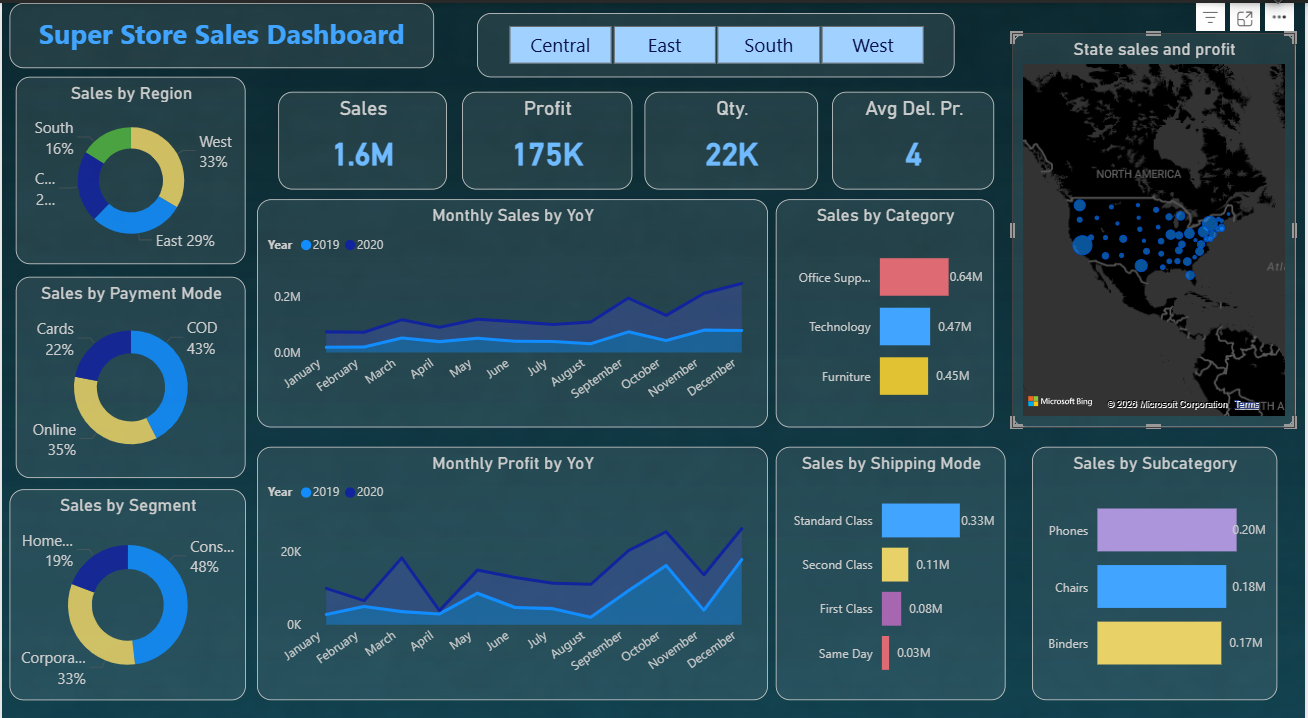

Layout of this report page (visuals, bound fields, positions):
{"tool":"powerbi","page":{"name":"Page 1","canvas":[1280,720],"ordinal":0},"visuals":[{"type":"barChart","title":"Sales by Category","fields":{"Category":["SuperStore_Sales_Dataset.Category"],"Y":["Sum(SuperStore_Sales_Dataset.Sales)"]},"box":[760,192.9,214.3,224.3],"z":0},{"type":"barChart","title":"Sales by Subcategory","fields":{"Y":["Sum(SuperStore_Sales_Dataset.Sales)"],"Category":["SuperStore_Sales_Dataset.Sub-Category"]},"box":[1011,435.6,240.5,249.1],"z":1000},{"type":"barChart","title":"Sales by Shipping Mode","fields":{"Y":["Sum(SuperStore_Sales_Dataset.Sales)"],"Category":["SuperStore_Sales_Dataset.Ship Mode"]},"box":[760,435.7,225.7,248.6],"z":2000},{"type":"stackedAreaChart","title":"Monthly Sales by YoY","fields":{"Y":["Sum(SuperStore_Sales_Dataset.Sales)"],"Category":["SuperStore_Sales_Dataset.Order Date.Variation.Date Hierarchy.Month"],"Series":["SuperStore_Sales_Dataset.Order Date.Variation.Date Hierarchy.Year"]},"box":[250,192.9,501.4,224.3],"z":3000},{"type":"stackedAreaChart","title":"Monthly Profit by YoY","fields":{"Y":["Sum(SuperStore_Sales_Dataset.Profit)"],"Category":["SuperStore_Sales_Dataset.Order Date.Variation.Date Hierarchy.Month"],"Series":["SuperStore_Sales_Dataset.Order Date.Variation.Date Hierarchy.Year"]},"box":[250,435.7,501.4,248.6],"z":4000},{"type":"map","title":"State sales and profit","fields":{"Category":["SuperStore_Sales_Dataset.State"],"Size":["Sum(SuperStore_Sales_Dataset.Sales)"]},"box":[991.4,30,278.6,387.1],"z":5000},{"type":"donutChart","title":"Sales by Payment Mode","fields":{"Y":["Sum(SuperStore_Sales_Dataset.Sales)"],"Category":["SuperStore_Sales_Dataset.Payment Mode"]},"box":[13.5,268.7,225.8,197.5],"z":6000},{"type":"donutChart","title":"Sales by Segment","fields":{"Y":["Sum(SuperStore_Sales_Dataset.Sales)"],"Category":["SuperStore_Sales_Dataset.Segment"]},"box":[7.4,477.3,231.9,207.4],"z":7000},{"type":"slicer","fields":{"Values":["SuperStore_Sales_Dataset.Region"]},"box":[465.7,10,468.6,62.9],"z":8000},{"type":"textbox","box":[7.4,0,417.2,63.8],"z":9000},{"type":"card","title":"Sales","fields":{"Values":["Sum(SuperStore_Sales_Dataset.Sales)"]},"box":[271.2,87.1,165.6,95.7],"z":10000},{"type":"card","title":"Profit","fields":{"Values":["Sum(SuperStore_Sales_Dataset.Profit)"]},"box":[451.5,87.1,166.9,95.7],"z":11000},{"type":"card","title":"Qty.","fields":{"Values":["Sum(SuperStore_Sales_Dataset.Quantity)"]},"box":[630.7,87.1,170.6,95.7],"z":12000},{"type":"card","title":"Avg Del. Pr.","fields":{"Values":["Avg(SuperStore_Sales_Dataset.Avg Delivery Period)"]},"box":[814.7,87.1,159.5,95.7],"z":13000},{"type":"donutChart","title":"Sales by Region","fields":{"Y":["Sum(SuperStore_Sales_Dataset.Sales)"],"Category":["SuperStore_Sales_Dataset.Region","SuperStore_Sales_Dataset.State"]},"box":[13.5,72.4,225.8,184.1],"z":14000}]}

Visuals, with their boxes in screenshot pixels (x1, y1, x2, y2), scaled from the page's 1280x720 canvas onto the 1308x718 screenshot:
"Sales by Category" barChart: 777 192 996 416
"Sales by Subcategory" barChart: 1033 434 1279 683
"Sales by Shipping Mode" barChart: 777 434 1007 682
"Monthly Sales by YoY" stackedAreaChart: 255 192 768 416
"Monthly Profit by YoY" stackedAreaChart: 255 434 768 682
"State sales and profit" map: 1013 30 1298 416
"Sales by Payment Mode" donutChart: 14 268 245 465
"Sales by Segment" donutChart: 8 476 245 683
slicer - SuperStore_Sales_Dataset.Region: 476 10 955 73
textbox: 8 0 434 64
"Sales" card: 277 87 446 182
"Profit" card: 461 87 632 182
"Qty." card: 644 87 819 182
"Avg Del. Pr." card: 833 87 996 182
"Sales by Region" donutChart: 14 72 245 256
